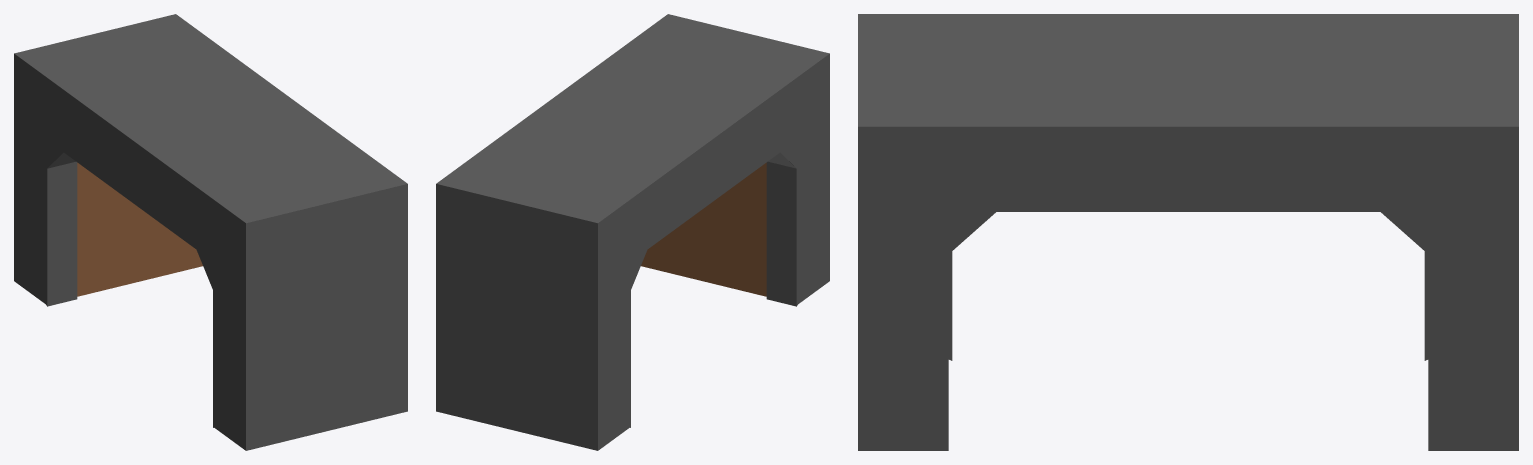
Rendered from SM_TunnelPart.fbx.
3 views of the same model, side by side, from view 1: azimuth 30°, elevation 25°; view 2: azimuth 150°, elevation 25°; view 3: azimuth 270°, elevation 25° (orthographic). The views are drawn at different scales.
Visible parts, largest first — view 1: Cube.032; view 2: Cube.032; view 3: Cube.032.
Part boxes in pixels (x1,y1,x2,y2): Cube.032: (14,14,407,450); Cube.032: (436,14,829,450); Cube.032: (858,14,1518,450).
Bounding box in the file's own units: 406 × 549 × 1008.
